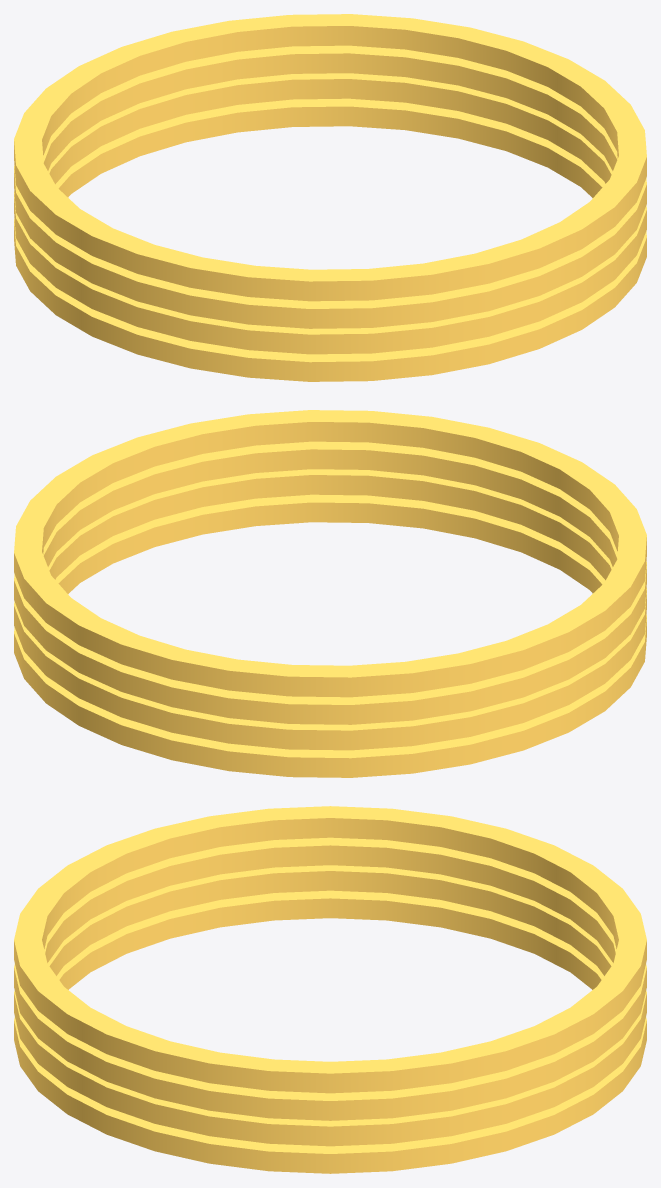
The model's file is Gold_Ring.glb.
3 views of the same model, one above another, from view 1: azimuth 30°, elevation 25°; view 2: azimuth 150°, elevation 25°; view 3: azimuth 270°, elevation 25° (orthographic).
Visible parts, largest first — view 1: Gold_Ring; view 2: Gold_Ring; view 3: Gold_Ring.
Part boxes in pixels (<box>): Gold_Ring: <box>14,14,646,381</box>; Gold_Ring: <box>14,410,646,777</box>; Gold_Ring: <box>14,806,646,1173</box>.
Bounding box in the file's own units: 0.5 × 0.0873 × 0.5.
